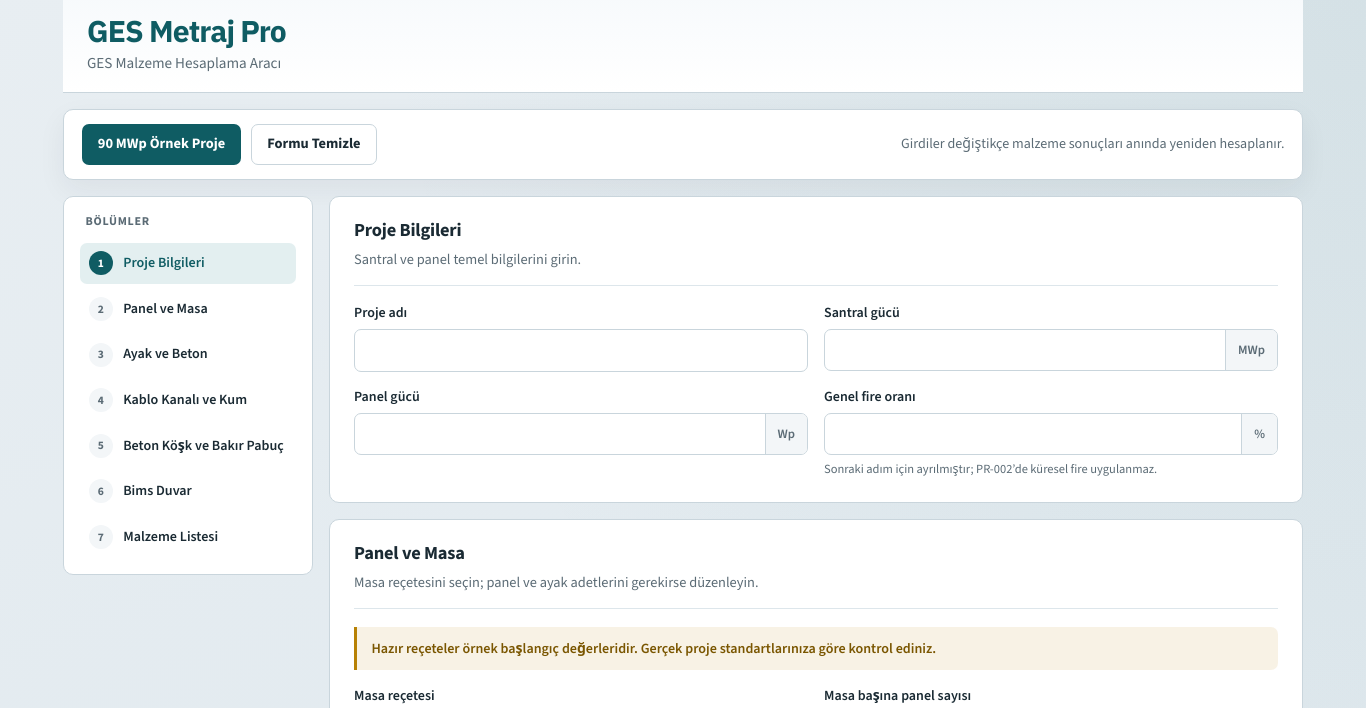
it: GES Metraj Pro — PR-001 foundation › loads sample project input values when örnek proje is clicked
Click the button "90 MWp Örnek Proje": {"x": 162, "y": 145} [82,124,242,165]
(page scrolled)
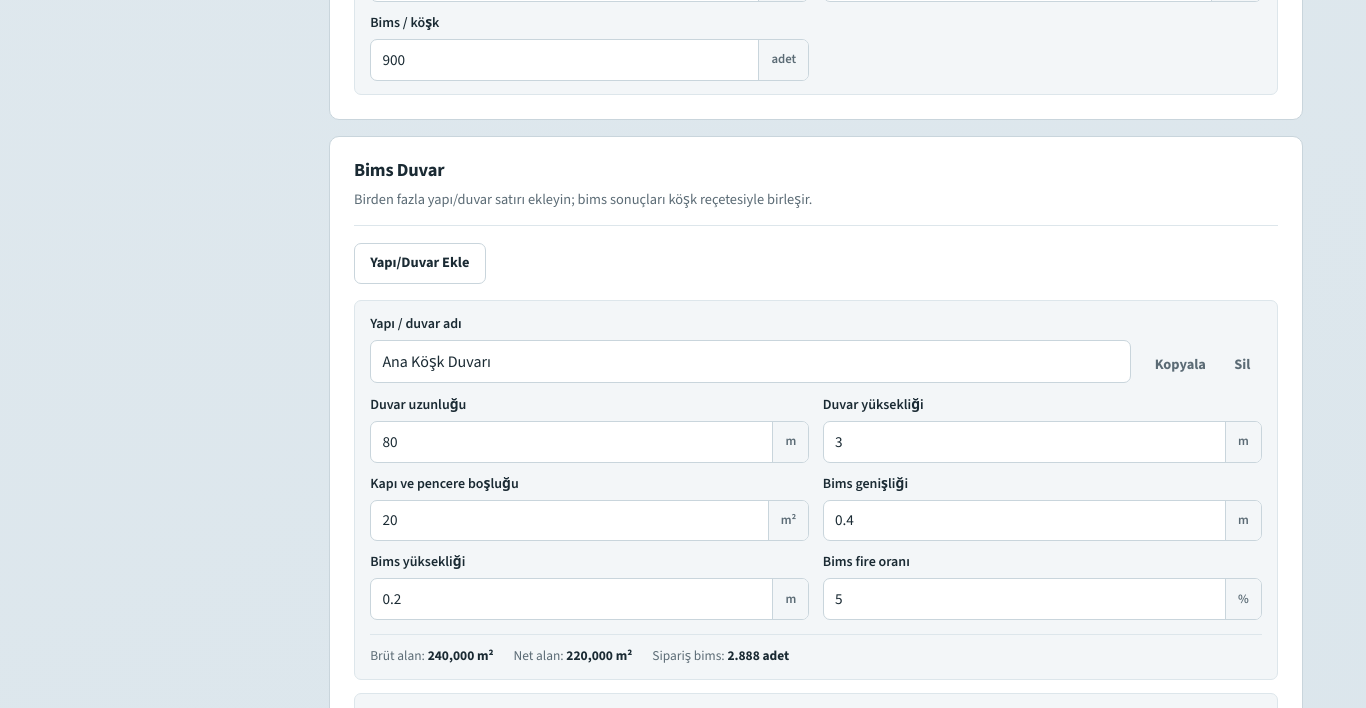
Result: the 1st field showing "Ana Köşk Duvarı" is shown at [370,340,1131,383]
